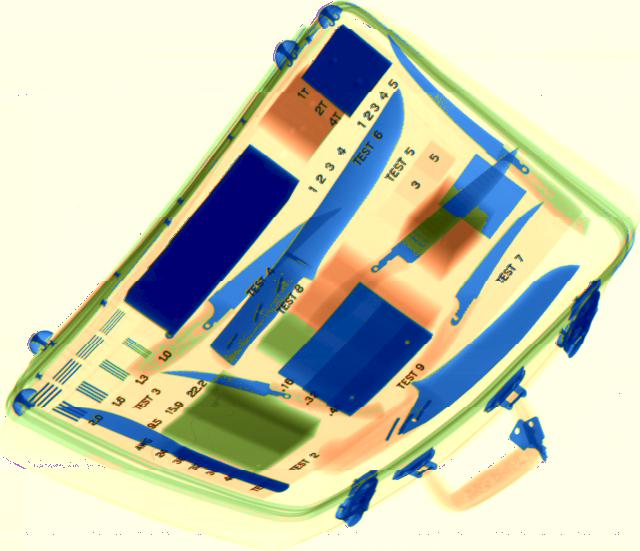Knife: (200, 89, 406, 365), (388, 35, 591, 236), (379, 260, 583, 454), (370, 146, 522, 282), (53, 407, 289, 494), (195, 206, 345, 338), (442, 201, 550, 340), (159, 368, 322, 414)
